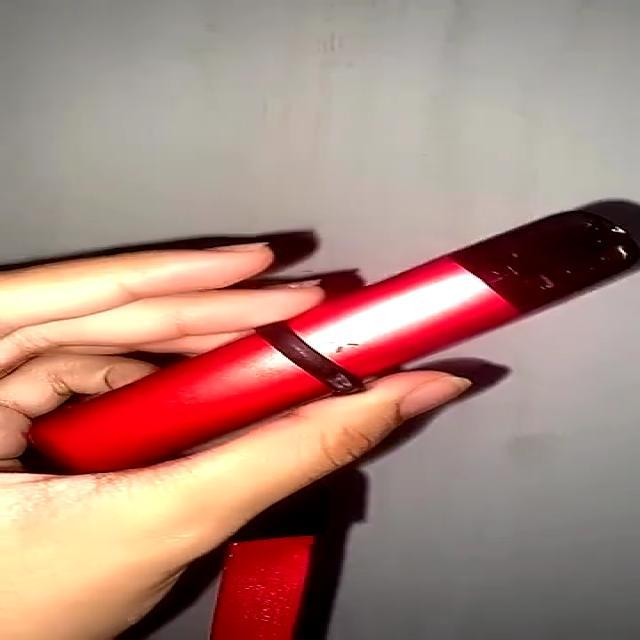Hazard: (23, 211, 640, 474)
